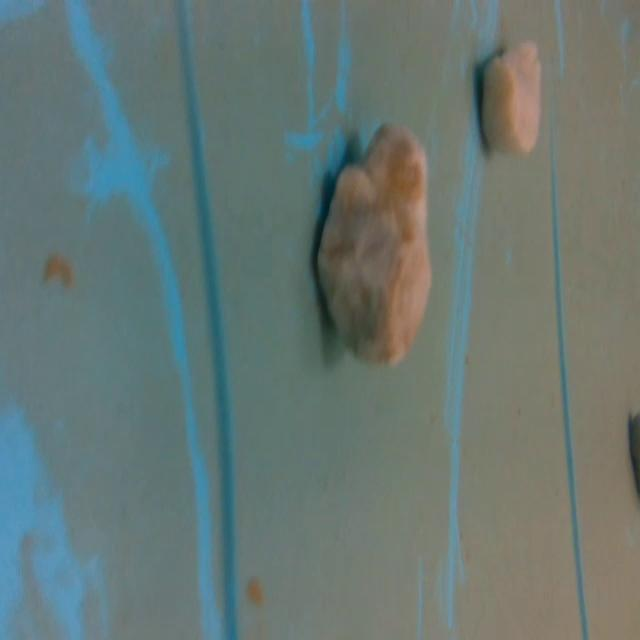rock: (308, 118, 446, 372), (478, 32, 546, 164)
